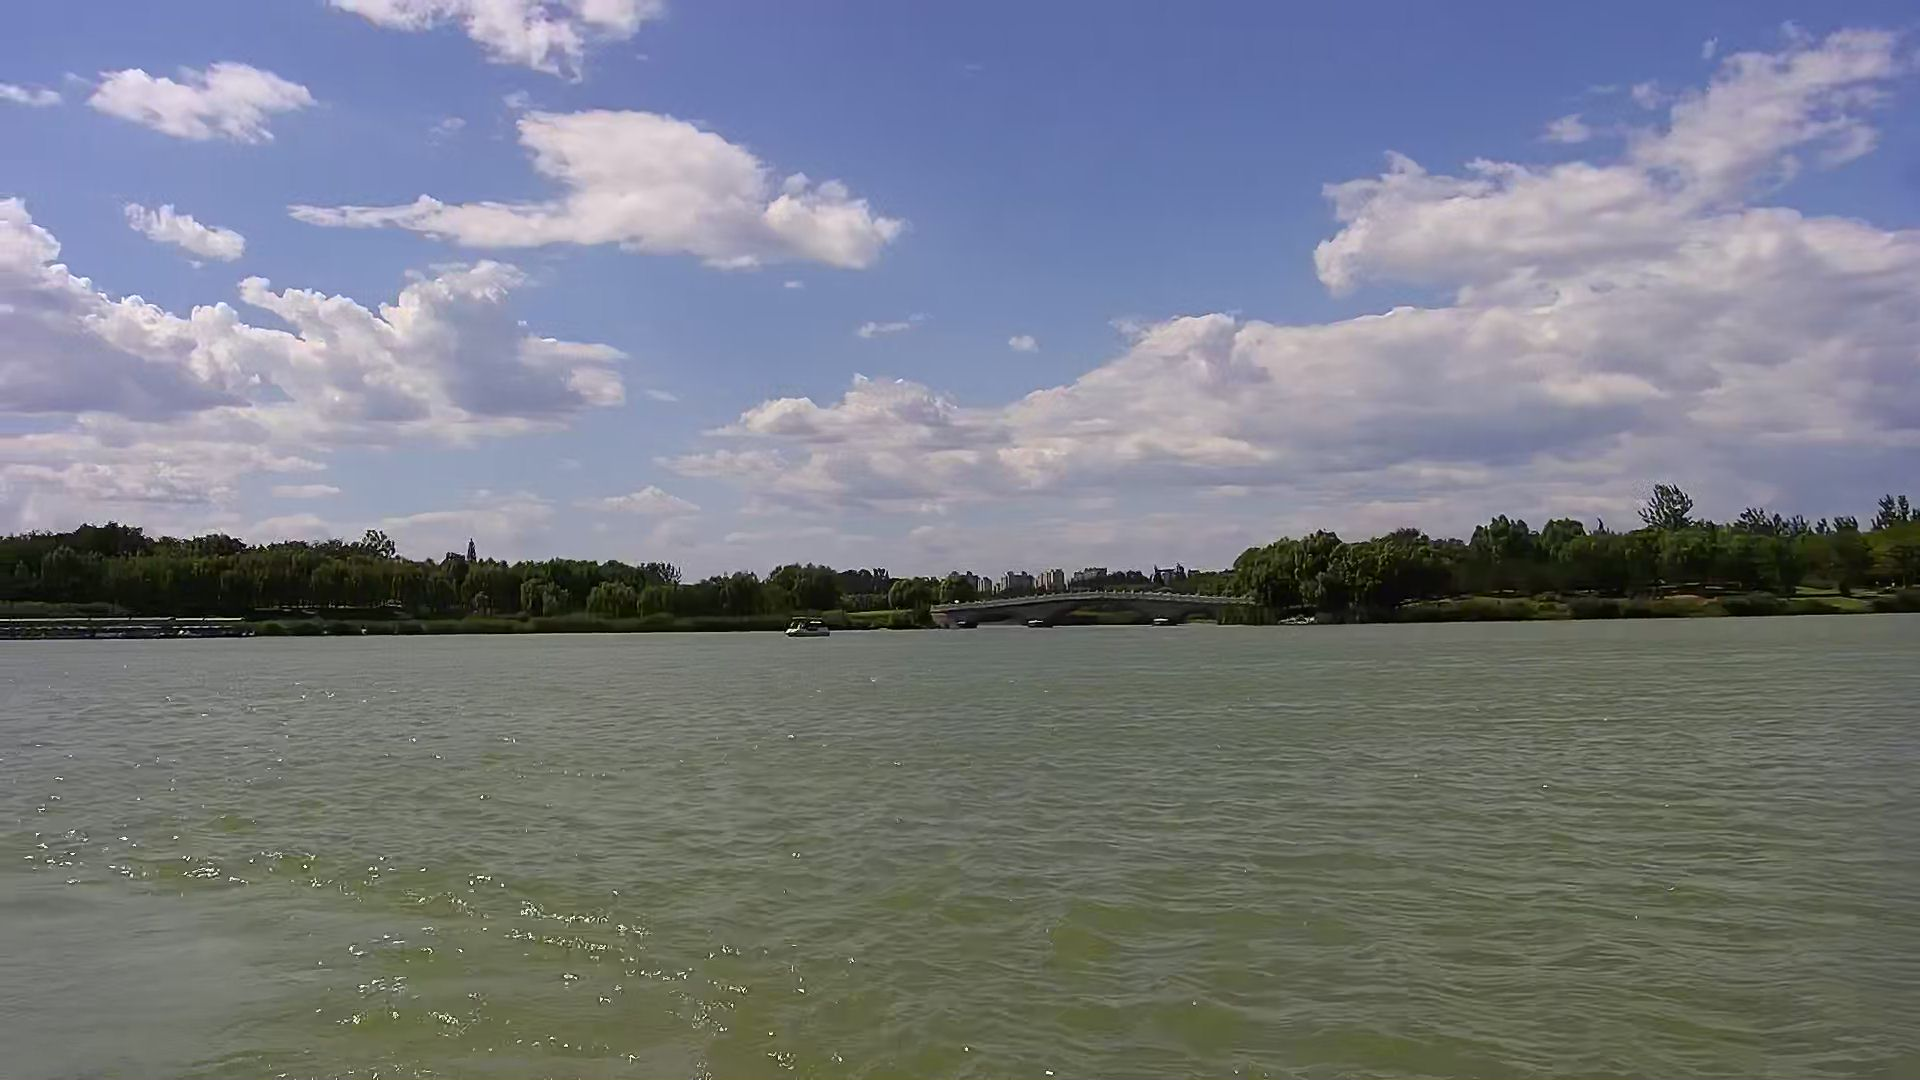boat: (783, 615, 833, 636)
bridge: (931, 589, 1253, 629), (1, 613, 244, 636)
